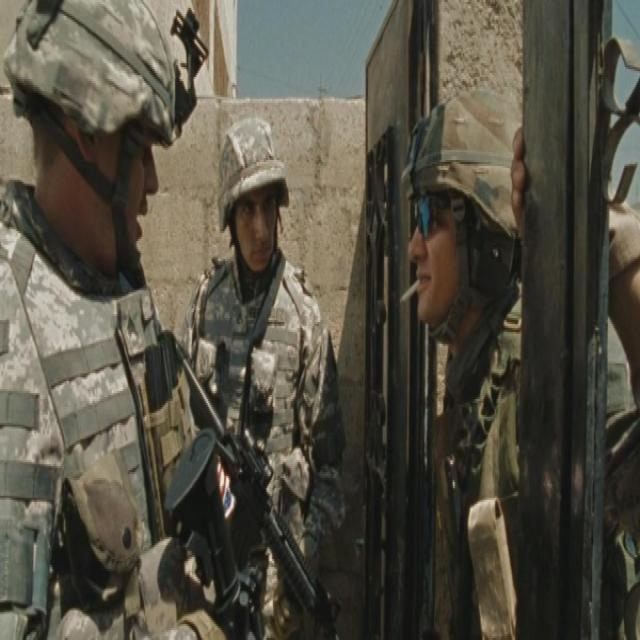rifle: (169, 334, 339, 639)
